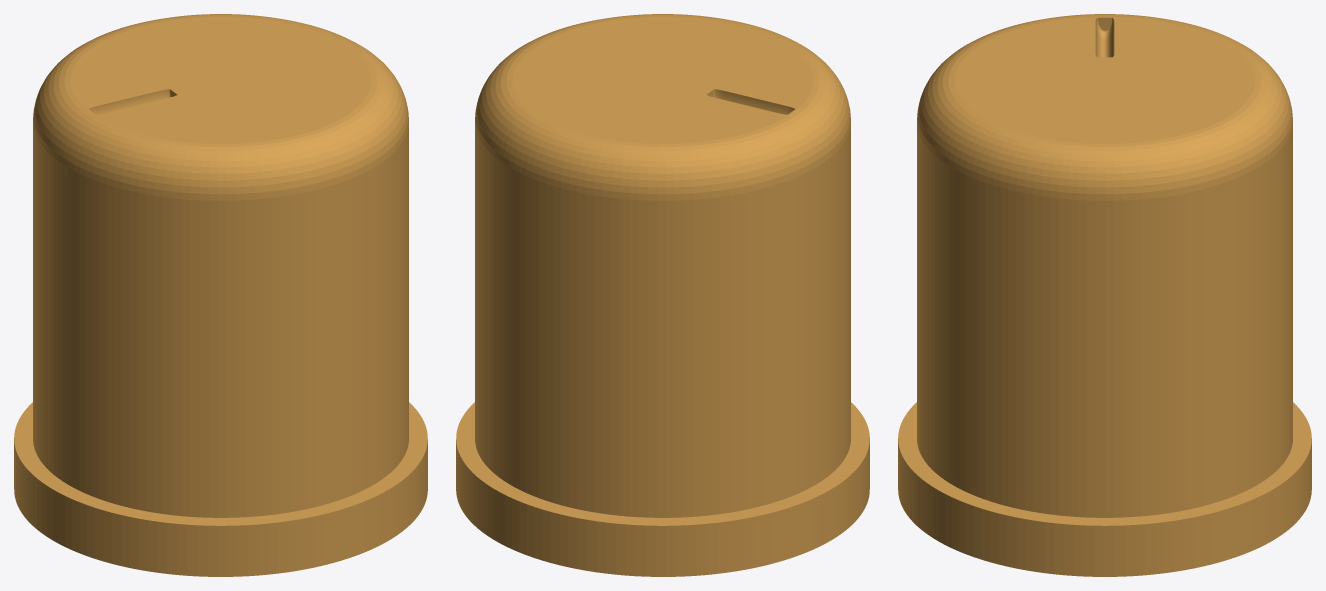
Rendered from rav_rotary.glb.
3 renders of one model, left to right at view 1: azimuth 30°, elevation 25°; view 2: azimuth 150°, elevation 25°; view 3: azimuth 270°, elevation 25°, orthographic.
Parts seen in each view (by area): view 1: Mesh_Mesh_head_geo.001_lambert2SG.001; view 2: Mesh_Mesh_head_geo.001_lambert2SG.001; view 3: Mesh_Mesh_head_geo.001_lambert2SG.001.
Boxes of the visible parts, x1,y1,x2,y2 form: Mesh_Mesh_head_geo.001_lambert2SG.001: [14, 14, 427, 576]; Mesh_Mesh_head_geo.001_lambert2SG.001: [456, 14, 869, 576]; Mesh_Mesh_head_geo.001_lambert2SG.001: [898, 14, 1311, 576].
Bounding box in the file's own units: 0.022 × 0.024 × 0.022.
